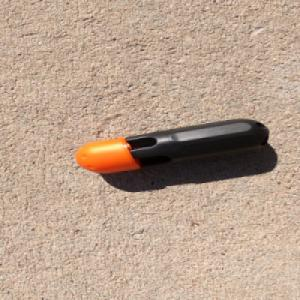PlasticPart: (73, 116, 270, 173)
